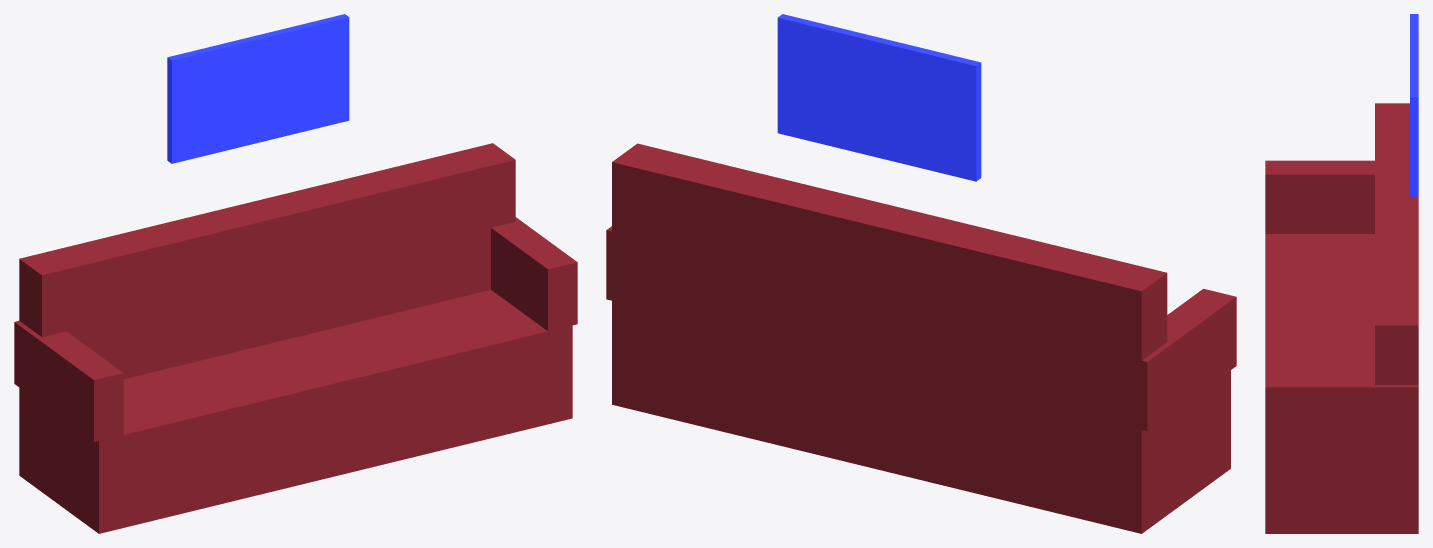
Rendered from booth_sofa.glb.
3 renders of one model, left to right at view 1: azimuth 30°, elevation 25°; view 2: azimuth 150°, elevation 25°; view 3: azimuth 270°, elevation 25°, orthographic. The views are drawn at different scales.
Parts seen in each view (by area): view 1: seat_sofa_velvet, back_sofa_velvet, screen_booth_screen, arm_sofa_velvet; view 2: back_sofa_velvet, seat_sofa_velvet, screen_booth_screen, arm_sofa_velvet; view 3: seat_sofa_velvet, arm_sofa_velvet, back_sofa_velvet, screen_booth_screen.
Part boxes in pixels (x1,y1,x2,y2): seat_sofa_velvet: (19,290,572,533); back_sofa_velvet: (19,143,515,379); screen_booth_screen: (167,14,349,163); arm_sofa_velvet: (14,217,577,441); back_sofa_velvet: (612,143,1167,429); seat_sofa_velvet: (612,301,1230,533); screen_booth_screen: (777,14,981,181); arm_sofa_velvet: (606,226,1236,431); seat_sofa_velvet: (1265,234,1418,533); arm_sofa_velvet: (1265,160,1418,446); back_sofa_velvet: (1375,103,1418,384); screen_booth_screen: (1410,14,1418,196).
Size of the model in its own units: 2.45 by 1.85 by 0.7.
